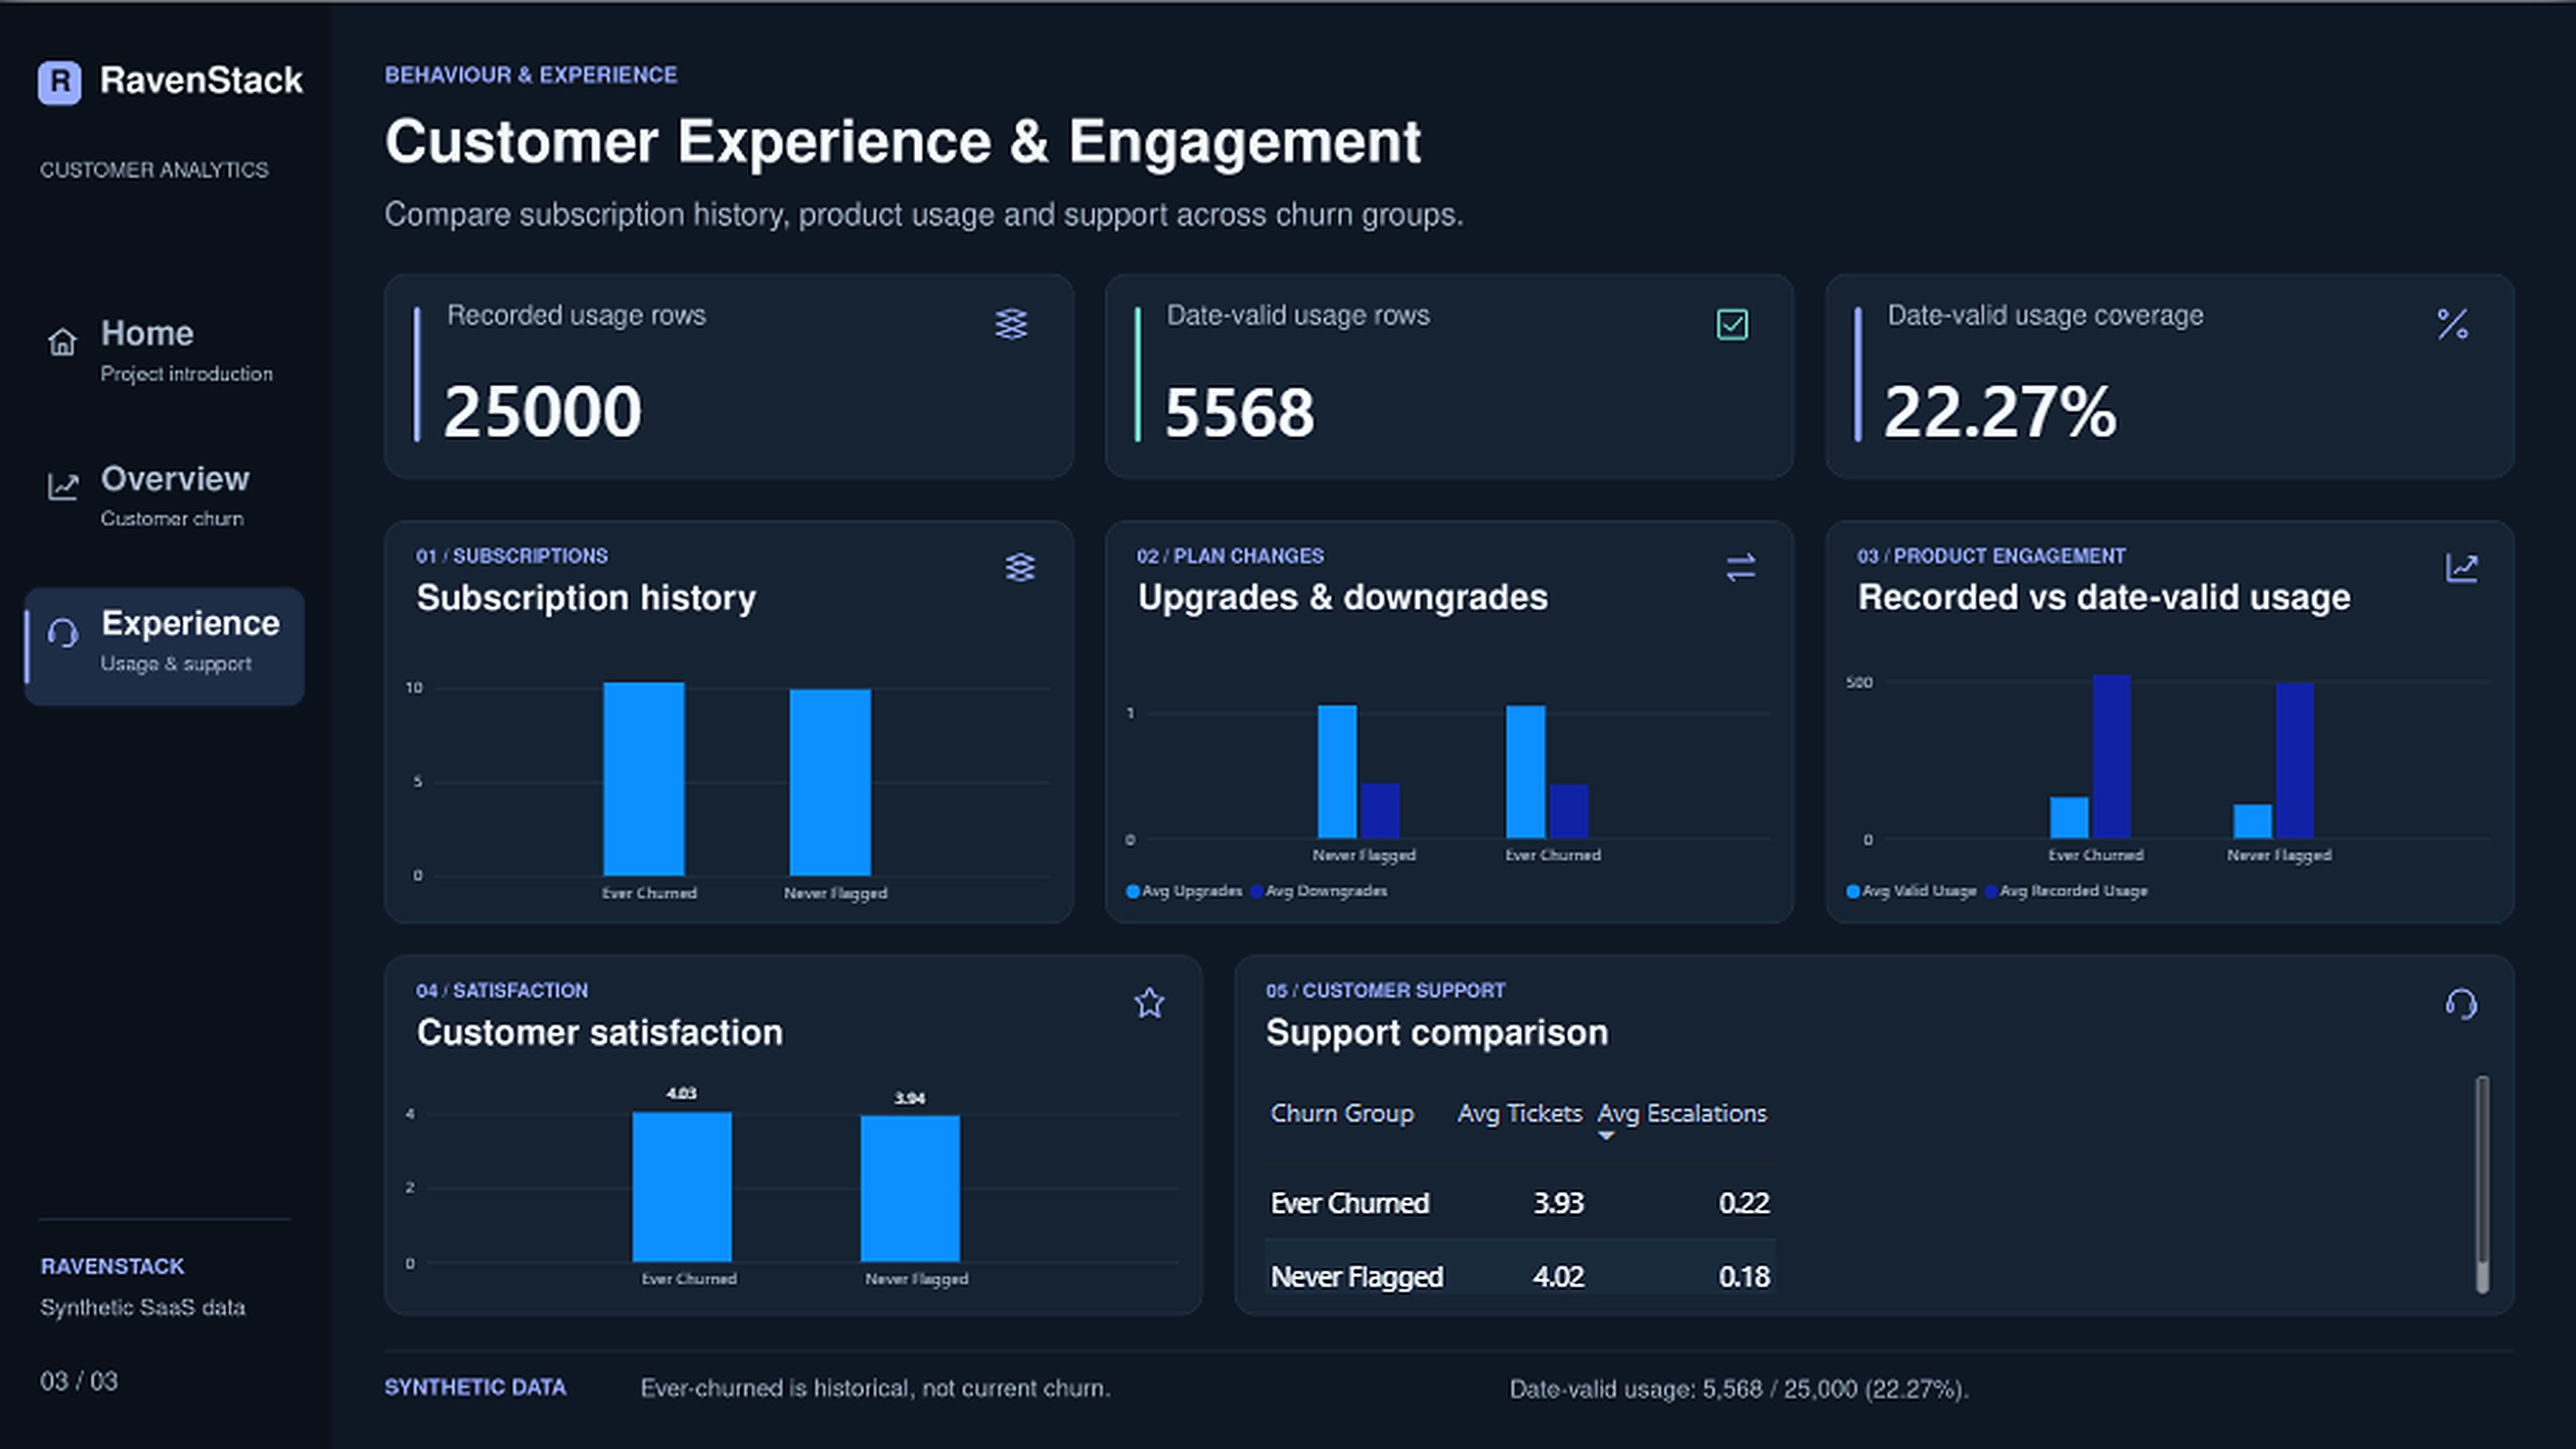

The page's visual inventory and layout, read from the dashboard file:
{"tool":"powerbi","page":{"name":"Customer Experience & Engagement","canvas":[1920,1080],"ordinal":2},"visuals":[{"type":"clusteredColumnChart","fields":{"Category":["ravenstack_account_360.Churn Group"],"Y":["ravenstack_account_360.Avg Subscriptions"]},"box":[304,472,480,202],"z":0},{"type":"clusteredColumnChart","fields":{"Category":["ravenstack_account_360.Churn Group"],"Y":["ravenstack_account_360.Avg Upgrades","ravenstack_account_360.Avg Downgrades"]},"box":[840,472,480,202],"z":1000},{"type":"cardVisual","fields":{"Data":["ravenstack_account_360.Recorded Usage Records"]},"box":[332,254,444,90],"z":2000},{"type":"cardVisual","fields":{"Data":["ravenstack_account_360.Valid Usage Coverage"]},"box":[1404,254,444,90],"z":3000},{"type":"cardVisual","fields":{"Data":["ravenstack_account_360.Valid Usage Records"]},"box":[868,254,444,90],"z":4000},{"type":"clusteredColumnChart","fields":{"Category":["ravenstack_account_360.Churn Group"],"Y":["ravenstack_account_360.Avg Valid Usage","ravenstack_account_360.Avg Recorded Usage"]},"box":[1376,472,480,202],"z":5000},{"type":"tableEx","fields":{"Values":["ravenstack_account_360.Churn Group","ravenstack_account_360.Avg Tickets","ravenstack_account_360.Avg Escalations"]},"box":[940,798,912,162],"z":6000},{"type":"clusteredColumnChart","fields":{"Category":["ravenstack_account_360.Churn Group"],"Y":["ravenstack_account_360.Avg Valid Satisfaction"]},"box":[304,792,576,172],"z":7000},{"type":"actionButton","box":[20,328,208,88],"z":8000},{"type":"actionButton","box":[20,220,208,88],"z":9000},{"type":"actionButton","box":[20,436,208,88],"z":10000}]}

Visuals, with their boxes on the page's 1920x1080 design canvas (x1, y1, x2, y2). These are canvas units, not pixel positions in the 2576x1449 screenshot, which may show the page scaled, cropped or inside an application window:
clusteredColumnChart - ravenstack_account_360.Churn Group x ravenstack_account_360.Avg Subscriptions: [left=304, top=472, right=784, bottom=674]
clusteredColumnChart - ravenstack_account_360.Churn Group x ravenstack_account_360.Avg Upgrades: [left=840, top=472, right=1320, bottom=674]
cardVisual - ravenstack_account_360.Recorded Usage Records: [left=332, top=254, right=776, bottom=344]
cardVisual - ravenstack_account_360.Valid Usage Coverage: [left=1404, top=254, right=1848, bottom=344]
cardVisual - ravenstack_account_360.Valid Usage Records: [left=868, top=254, right=1312, bottom=344]
clusteredColumnChart - ravenstack_account_360.Churn Group x ravenstack_account_360.Avg Valid Usage: [left=1376, top=472, right=1856, bottom=674]
tableEx - ravenstack_account_360.Churn Group x ravenstack_account_360.Avg Tickets: [left=940, top=798, right=1852, bottom=960]
clusteredColumnChart - ravenstack_account_360.Churn Group x ravenstack_account_360.Avg Valid Satisfaction: [left=304, top=792, right=880, bottom=964]
actionButton: [left=20, top=328, right=228, bottom=416]
actionButton: [left=20, top=220, right=228, bottom=308]
actionButton: [left=20, top=436, right=228, bottom=524]
